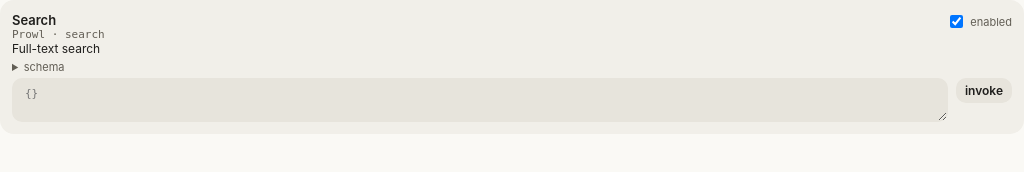
ToolsBrowser › a failed toggle shows an on-row error signal (J-01), not just a toast; the checkbox stays at the server value
Click the checkbox with test id "tool-enabled-t1".
click(957, 22)  # box top-left (950, 15), bottom-right (963, 28)
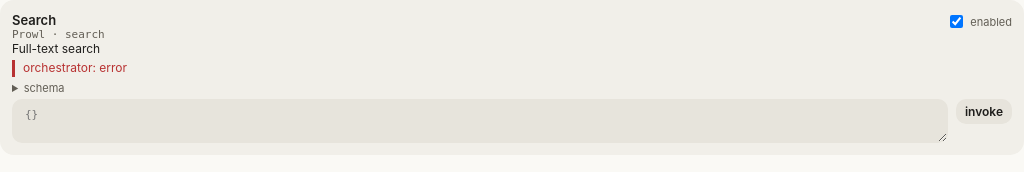
Expected: the message "orchestrator: error" is shown, top-left (12, 60), bottom-right (1012, 77)
Expected: the message with test id "tool-toggle-error-t1" reads "orchestrator: error", top-left (23, 60), bottom-right (127, 75)
